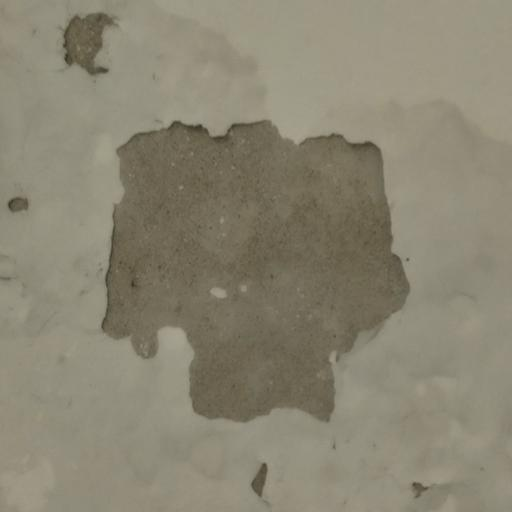peeling: (89, 102, 426, 449), (36, 0, 152, 100)
